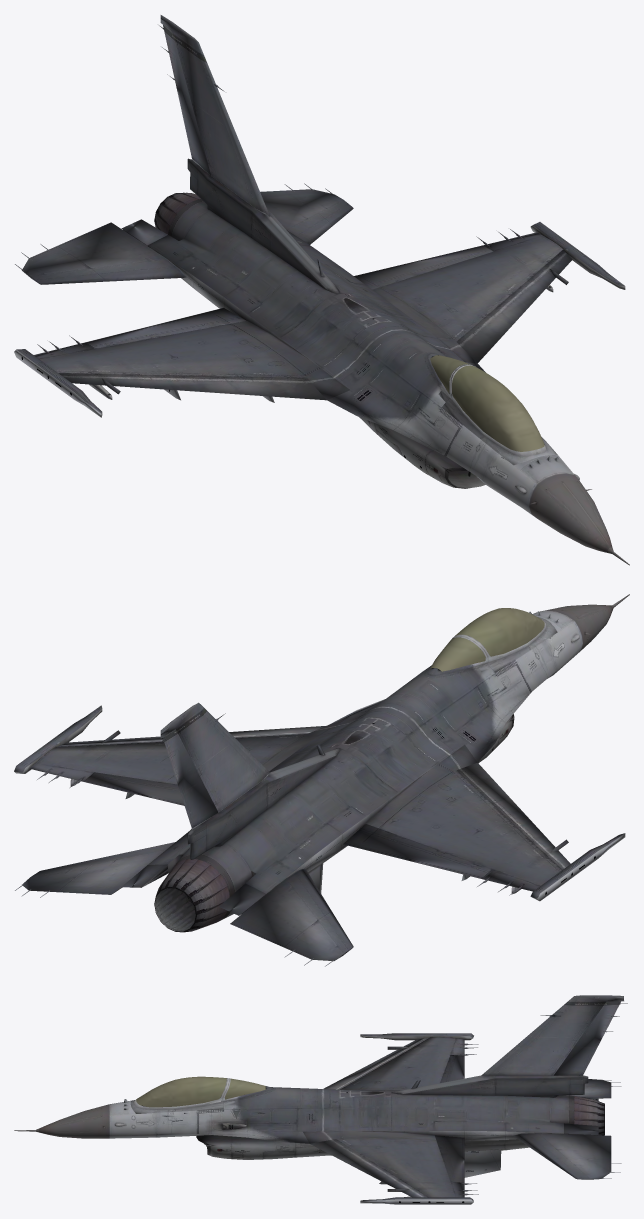
The model's file is f-16c-fighting-falcon.glb.
3 renders of one model, top to bottom at view 1: azimuth 30°, elevation 25°; view 2: azimuth 150°, elevation 25°; view 3: azimuth 270°, elevation 25°, orthographic. The views are drawn at different scales.
Parts seen in each view (by area): view 1: LOD0_plane_0, Glass_Canopy01_glass_0; view 2: LOD0_plane_0, Glass_Canopy01_glass_0; view 3: LOD0_plane_0, Glass_Canopy01_glass_0.
Boxes of the visible parts, <box> form: LOD0_plane_0: <box>14,15,629,565</box>; Glass_Canopy01_glass_0: <box>430,355,544,451</box>; LOD0_plane_0: <box>14,594,629,966</box>; Glass_Canopy01_glass_0: <box>430,608,544,671</box>; LOD0_plane_0: <box>14,995,627,1204</box>; Glass_Canopy01_glass_0: <box>136,1076,265,1107</box>.
Size of the model in its own units: 10.3 by 4.99 by 16.12.
4 materials, 4 textured.
